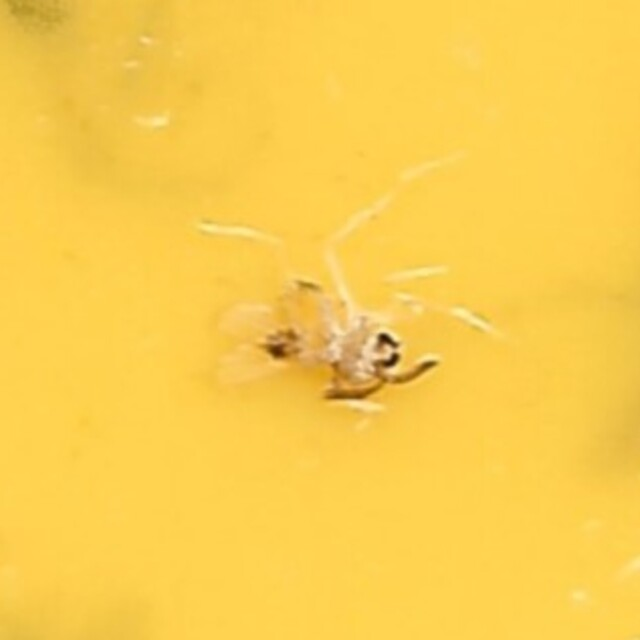Nematocera: (202, 219, 438, 421)
